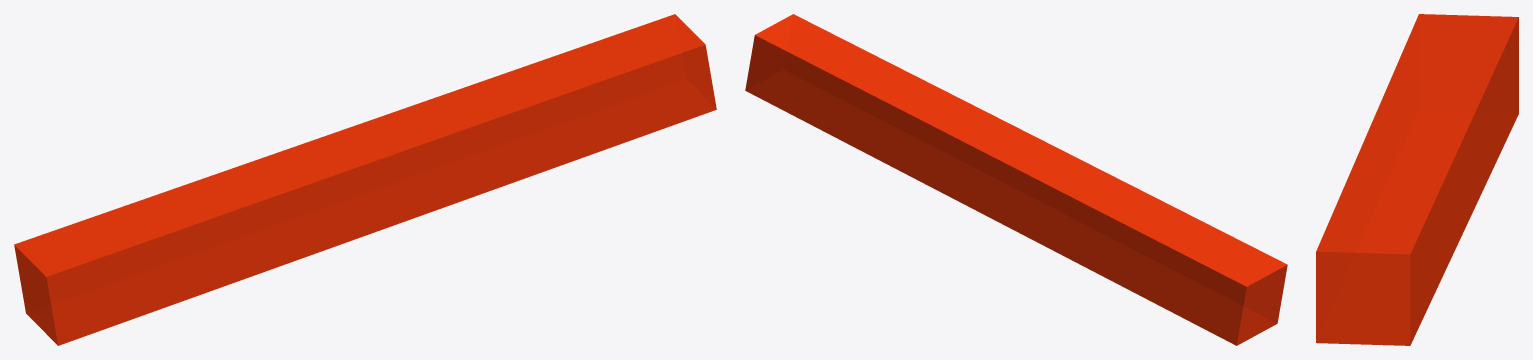
Rendered from Event_421115418_EErechit_63.fbx.
3 renders of one model, left to right at view 1: azimuth 30°, elevation 25°; view 2: azimuth 150°, elevation 25°; view 3: azimuth 270°, elevation 25°, orthographic. The views are drawn at different scales.
Parts seen in each view (by area): view 1: Model; view 2: Model; view 3: Model.
Boxes of the visible parts, <box> form: Model: <box>14,14,716,345</box>; Model: <box>745,14,1287,345</box>; Model: <box>1316,14,1518,345</box>.
Size of the model in its own units: 0.7031 by 0.195 by 0.1552.
